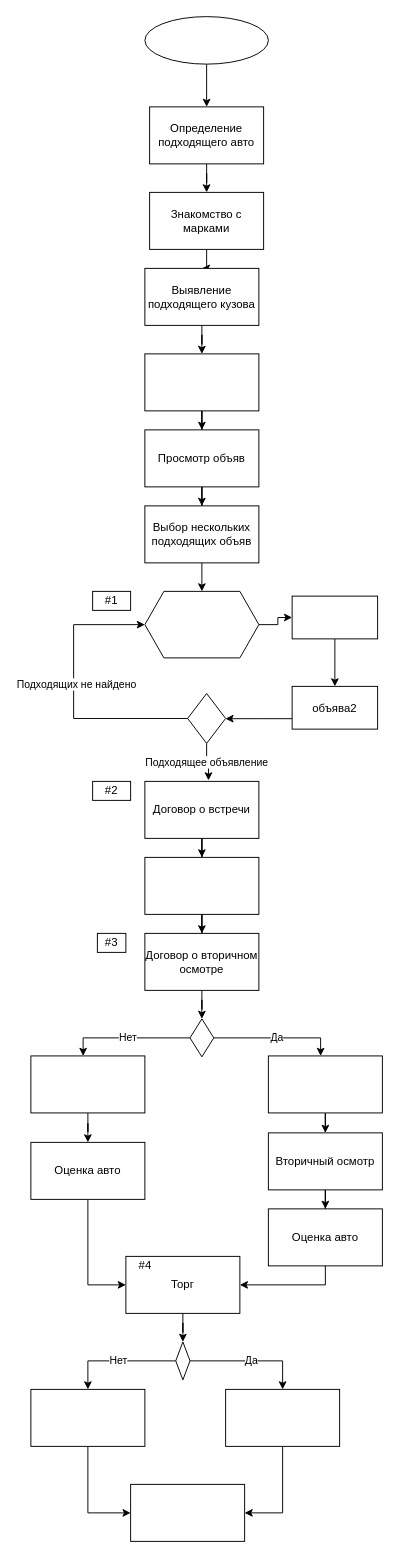
The diagram is 399 pixels wide and 1558 high, and some of its shapes have lost their labels. Here are the shapes that lost their labels. From the top down, the box of each, then its label:
(144, 16, 268, 64): Желание продать авто
(144, 353, 259, 411): Выявление необходимых характеристик
(144, 590, 259, 658): Обзвон
(291, 595, 378, 639): объява1
(144, 856, 259, 914): Первичный осмотр
(30, 1055, 145, 1113): Принятие решения на основе первичного осмотра
(267, 1055, 382, 1113): Договор о встрече на СТО
(130, 1483, 245, 1541): Договор о покупке
